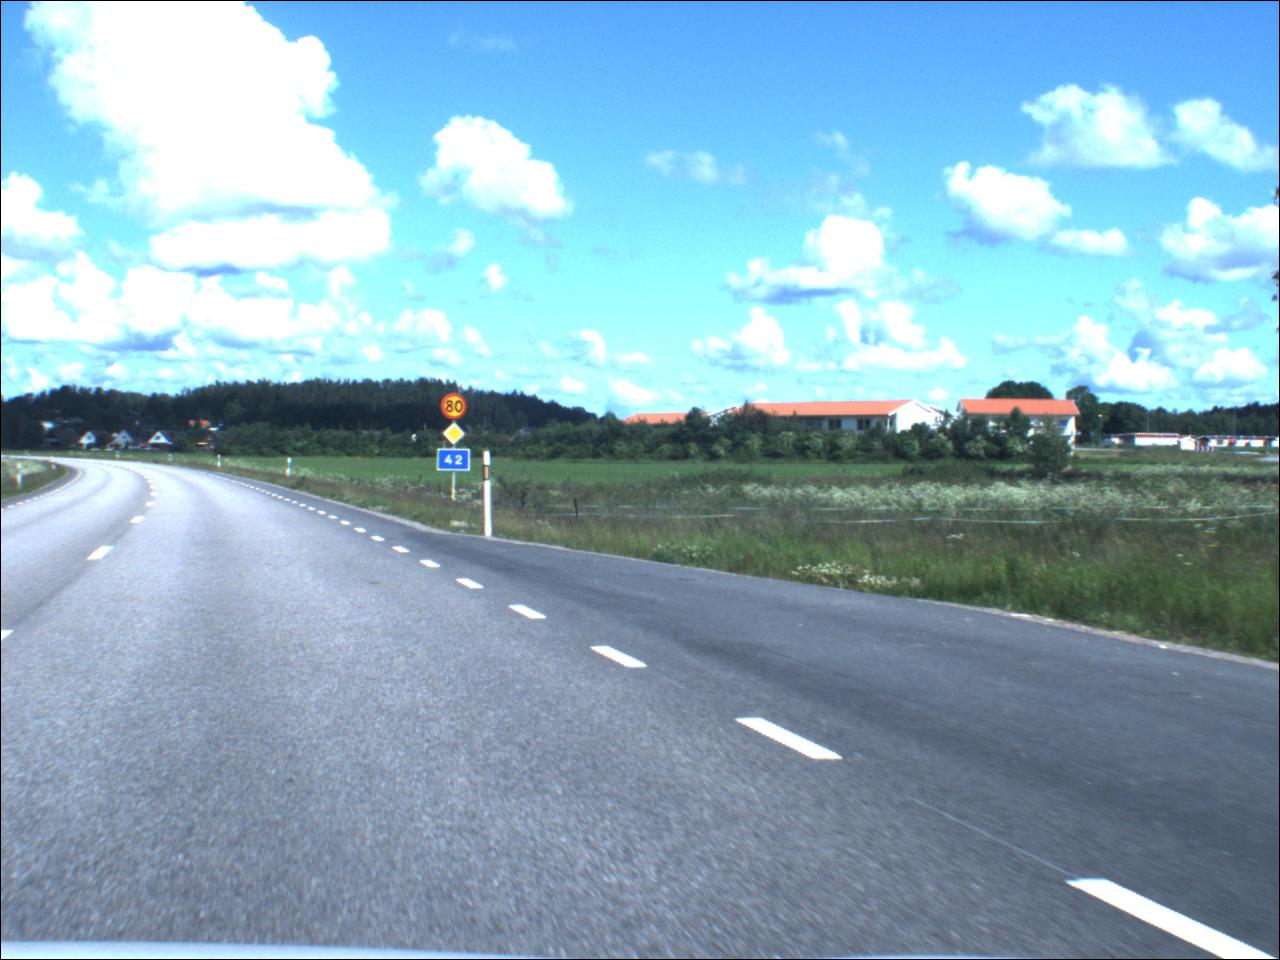80_SIGN: (442, 394, 469, 422)
PRIORITY_ROAD: (445, 424, 469, 448)
